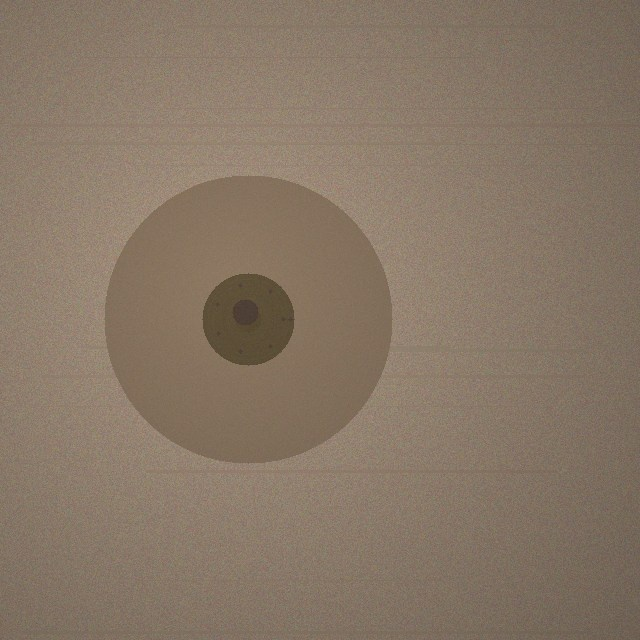cold_weld: (104, 175, 392, 463)
